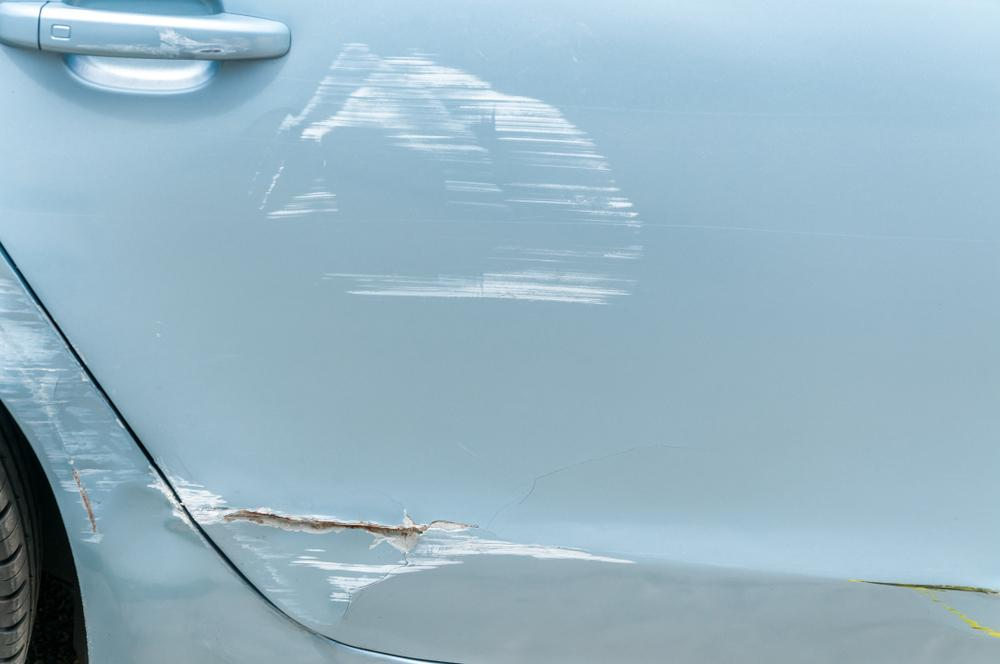crack: (227, 510, 454, 538)
dent: (95, 484, 219, 589)
scratch: (267, 43, 644, 316), (168, 470, 651, 623), (0, 244, 168, 540), (848, 576, 1000, 639), (89, 29, 260, 59)
